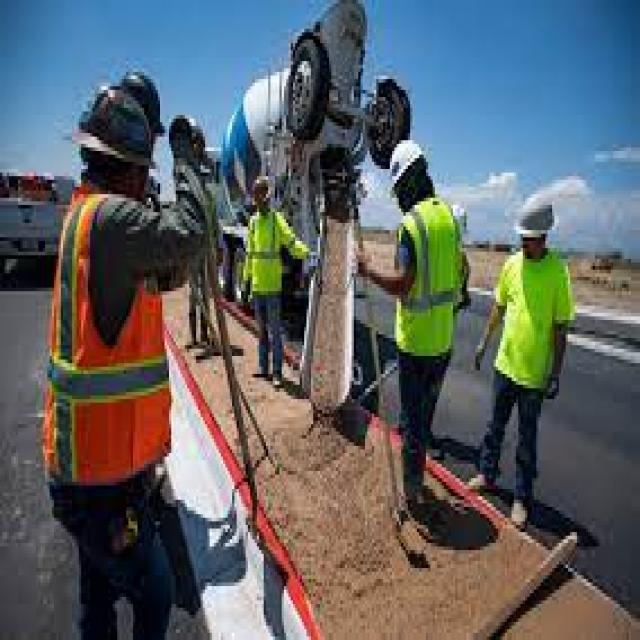Reflective-Jacket: (32, 180, 180, 510), (484, 245, 586, 402), (386, 194, 476, 370), (241, 205, 293, 306)
Safety-Helmet: (381, 129, 435, 198), (509, 183, 561, 252), (248, 169, 277, 209)
